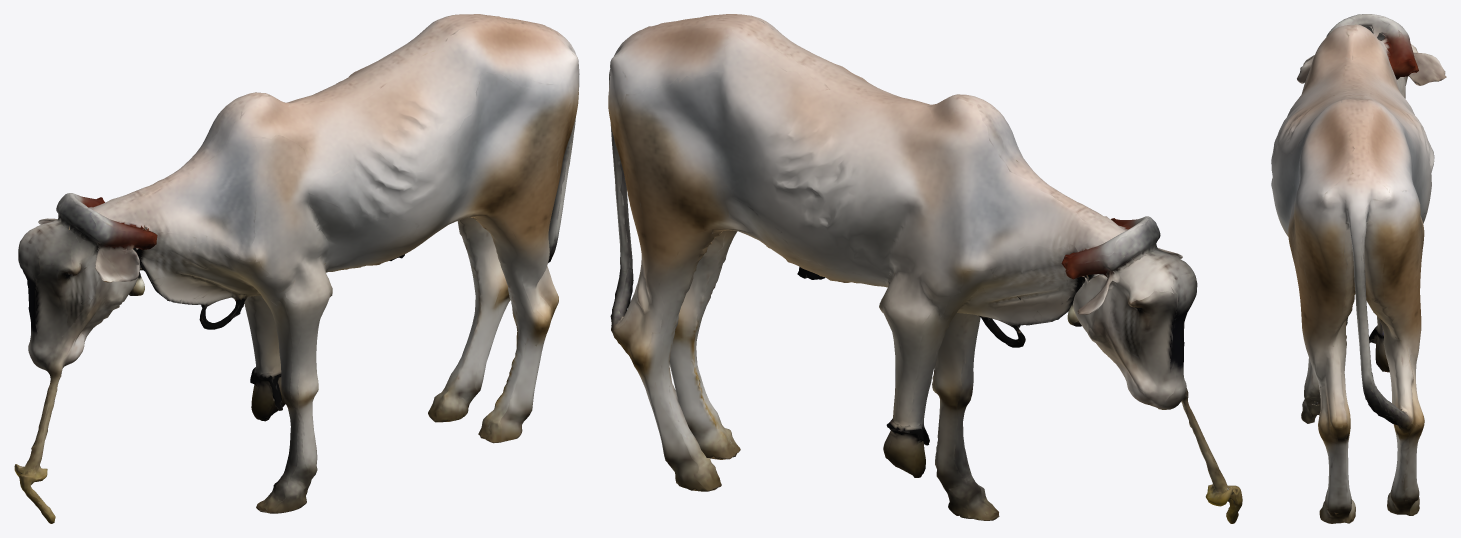
The picture shows the model from 3 angles, left to right: view 1: azimuth 30°, elevation 25°; view 2: azimuth 150°, elevation 25°; view 3: azimuth 270°, elevation 25°; orthographic projection. The views are drawn at different scales.
Visible parts, largest first — view 1: world; view 2: world; view 3: world.
Boxes of the visible parts, bbox=[...] form: world: bbox=[14, 14, 579, 523]; world: bbox=[608, 14, 1242, 523]; world: bbox=[1271, 14, 1446, 523].
Size of the model in its own units: 0.9991 by 0.7075 by 0.2769.
Materials: 1 (1 with a texture image).
